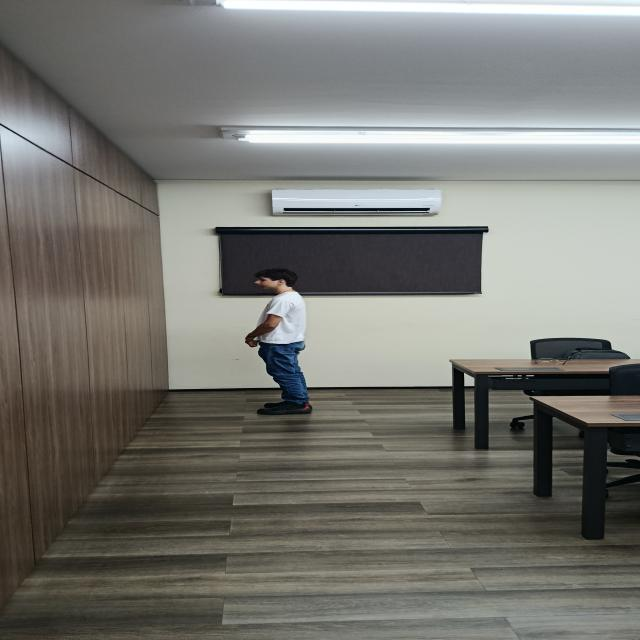sem_oculos: (254, 277, 284, 282)
